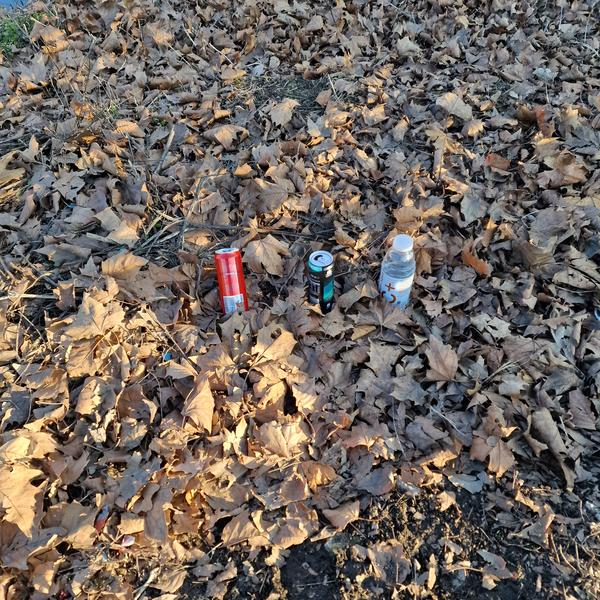can: (211, 245, 251, 316), (308, 251, 334, 315)
plastic_bottle: (374, 230, 421, 312)
